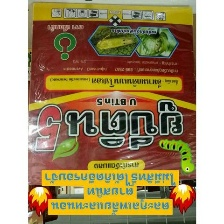book: (21, 0, 211, 190)
